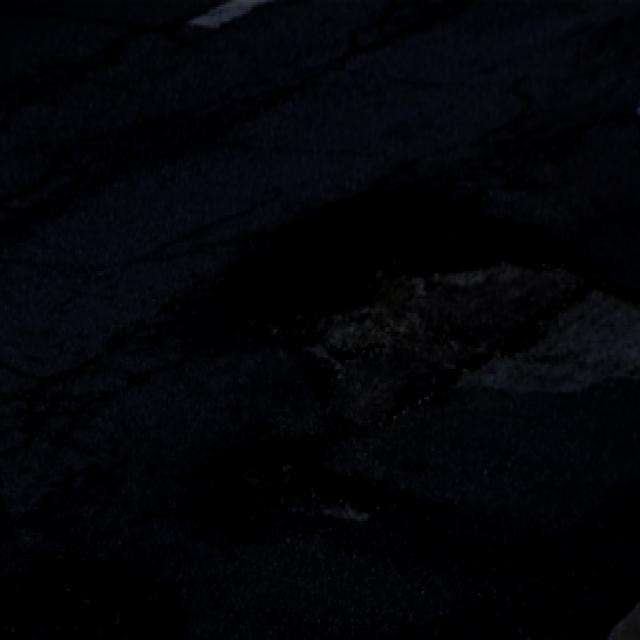Pothole: (197, 191, 640, 536), (36, 549, 191, 640)
